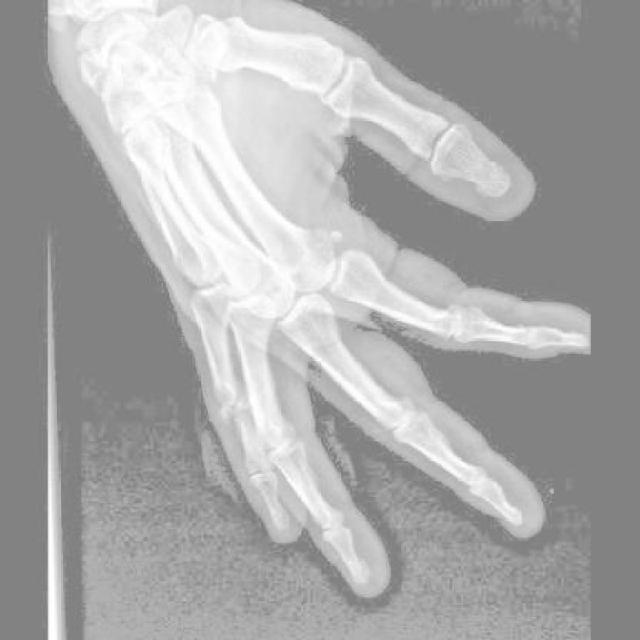Fracture: (220, 397, 254, 430)
